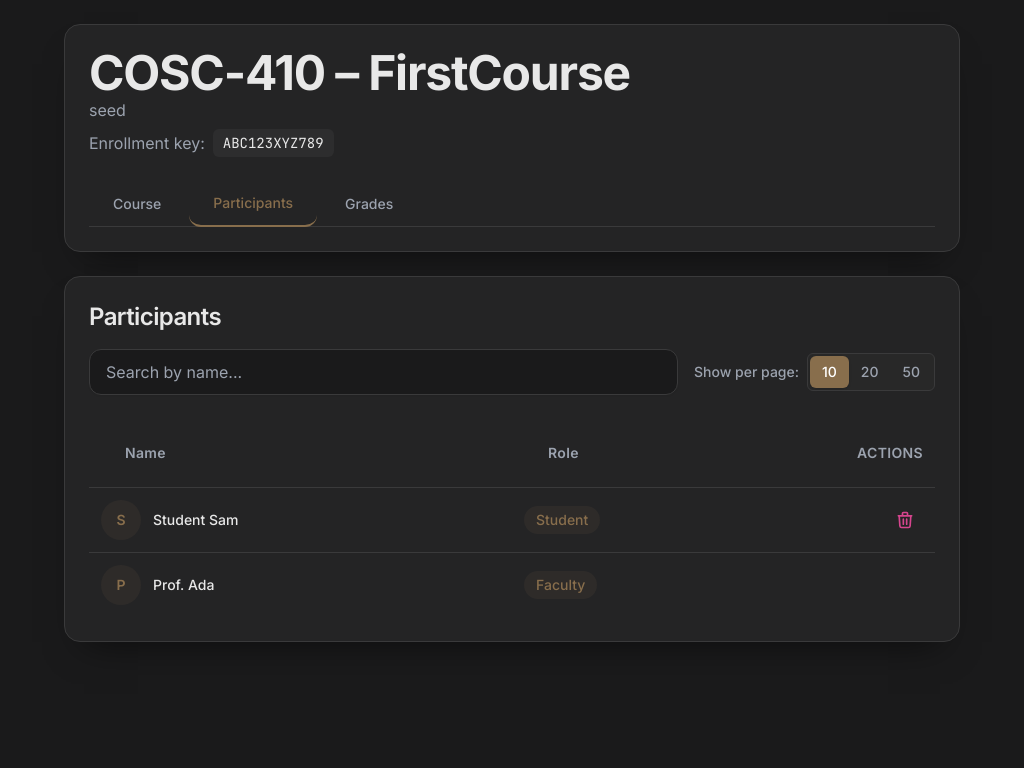
Test case: CoursePage › participants tab search functionality
Expected: the heading "COSC-410 – FirstCourse" is shown, [89, 43, 630, 102]
Click the tab "participants" at (253,204), box [189, 181, 317, 227]
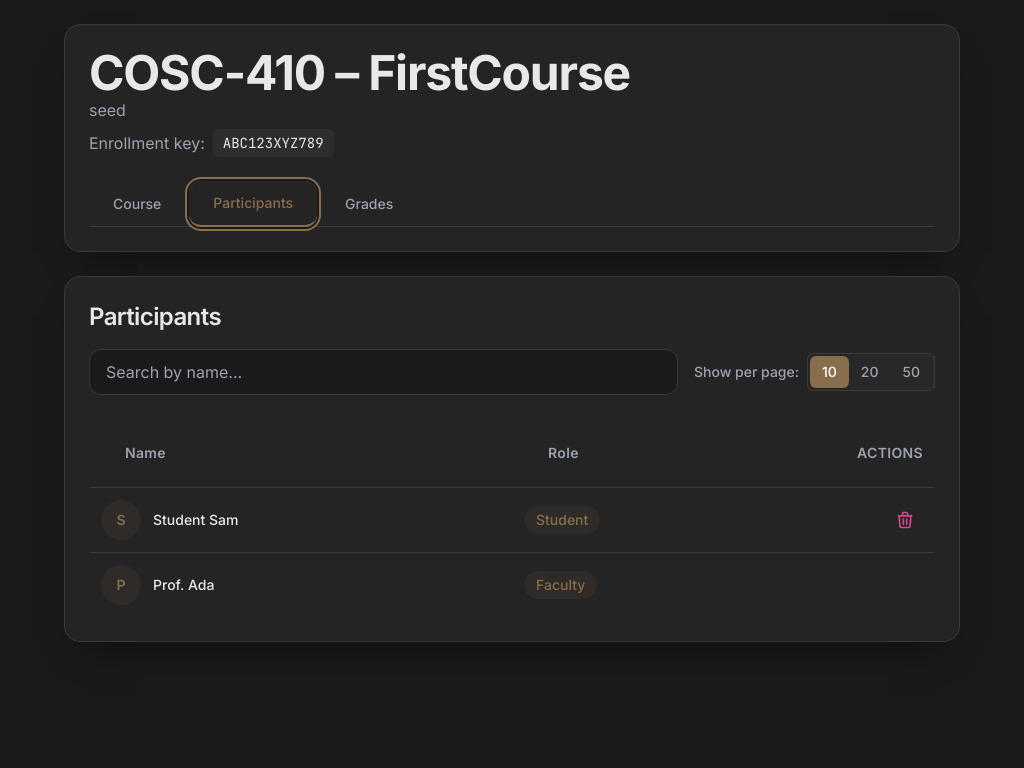
Expected: the text "Prof. Ada" is shown, [153, 575, 214, 595]
Type "Sam" into the search field with placeholder "Search by name..." at (384,372), box [89, 349, 678, 395]
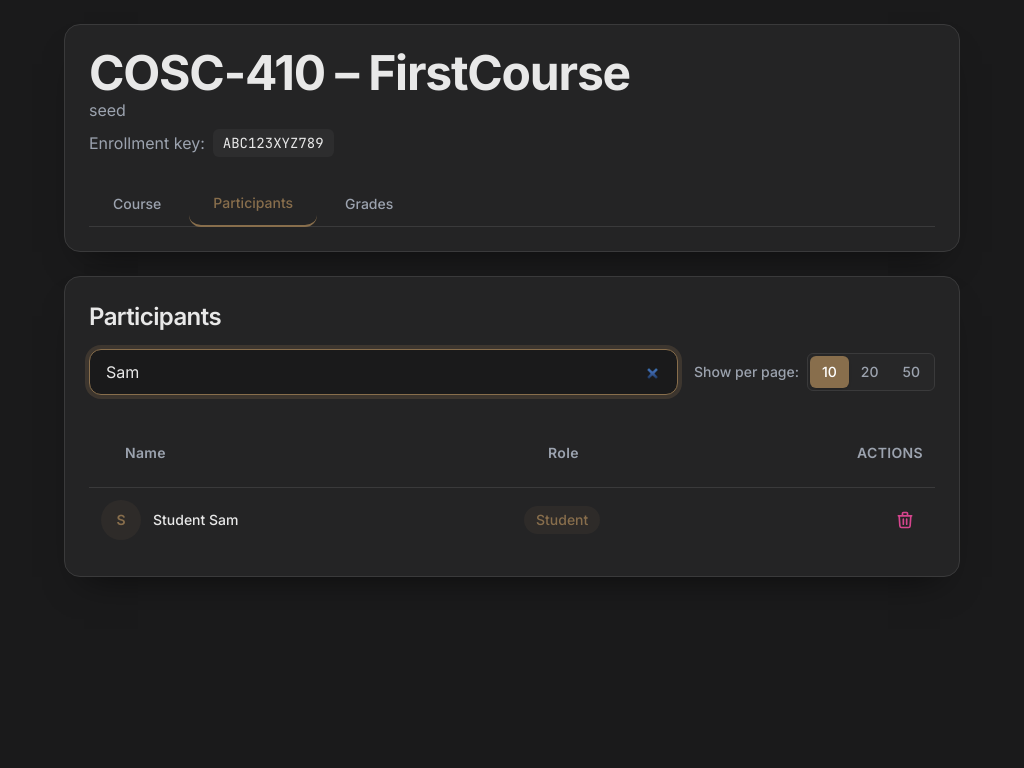
Expected: the text "Student Sam" is shown, [153, 510, 238, 530]
Expected: the text "Prof. Ada" is gone
